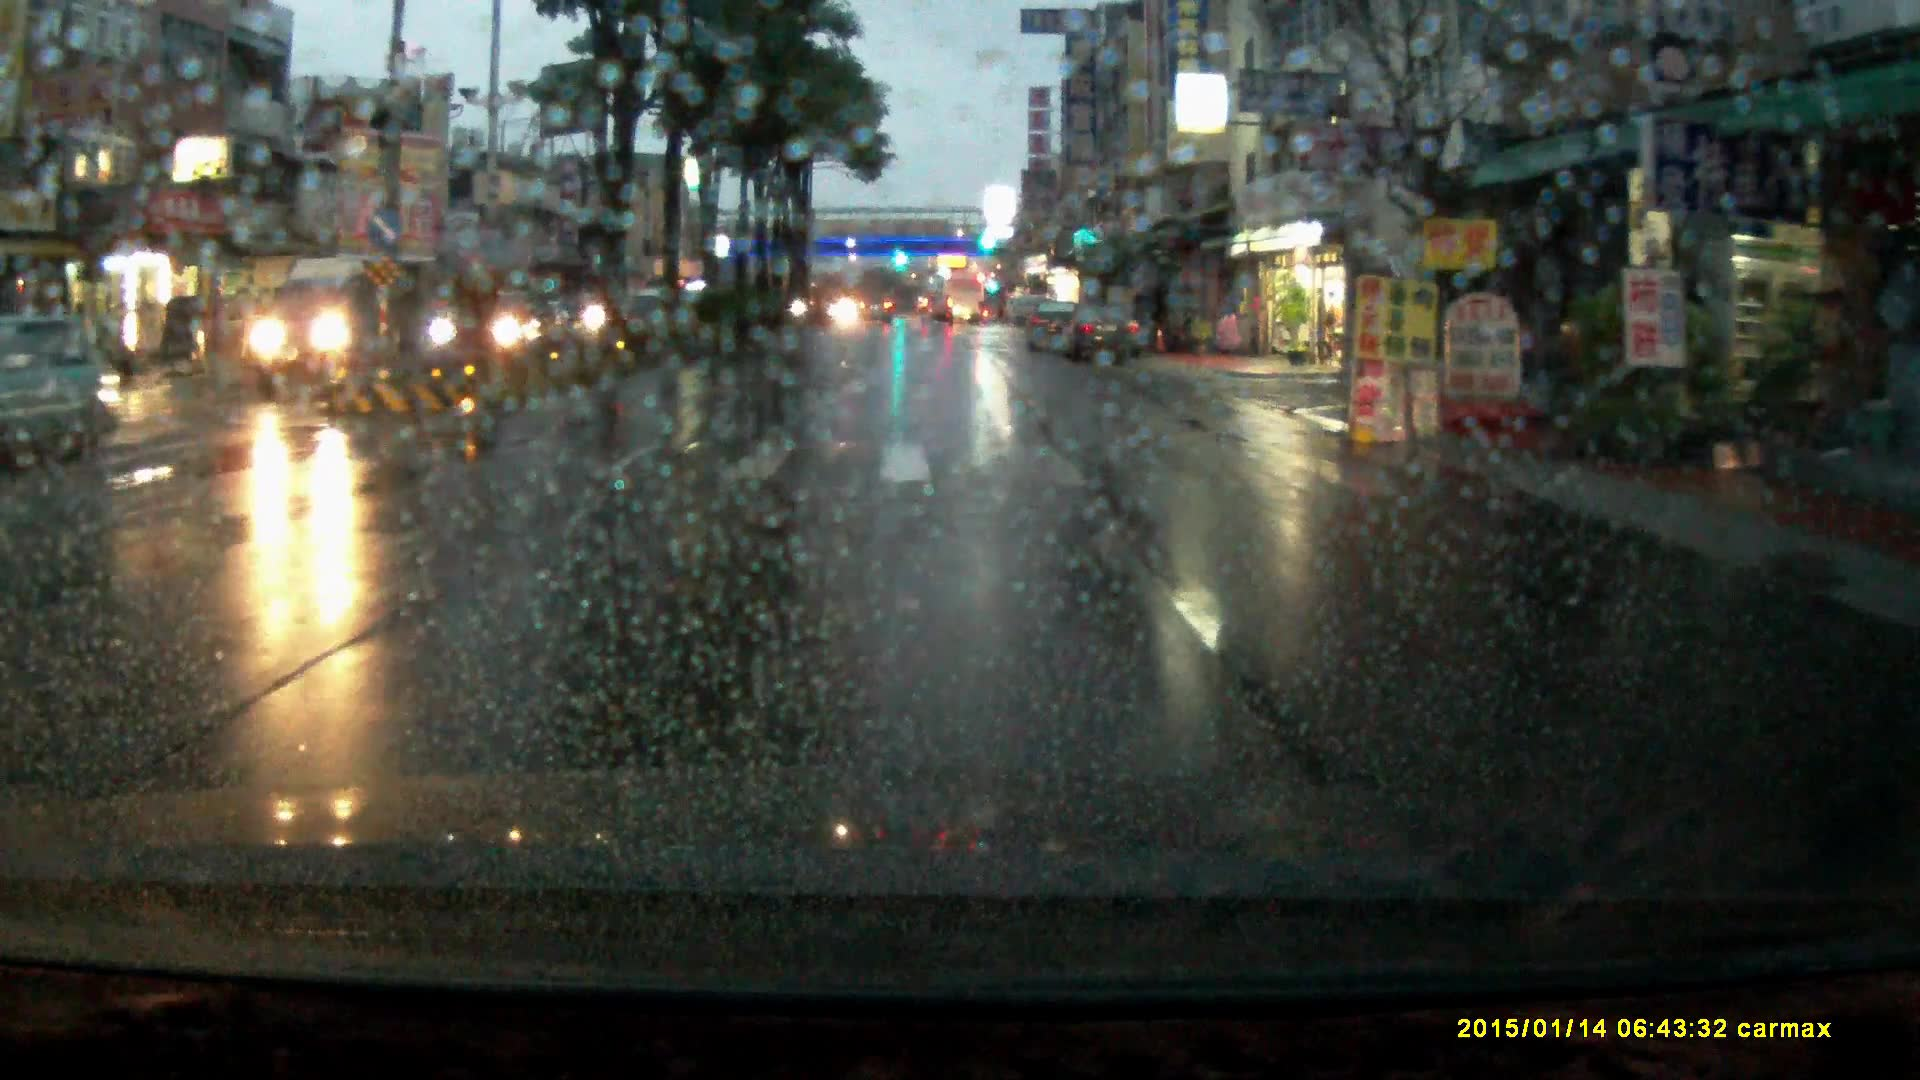vehicle: (252, 260, 439, 392), (427, 286, 554, 357), (1059, 302, 1145, 367), (1025, 299, 1081, 353), (944, 274, 986, 327), (923, 291, 956, 328), (858, 295, 895, 326)
